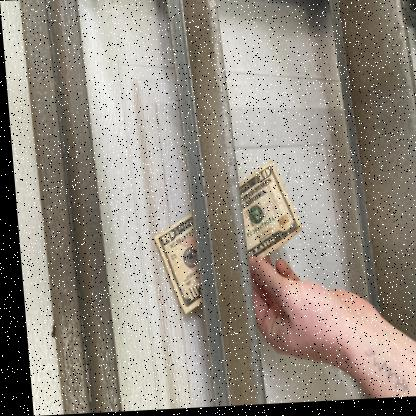ten-front: (150, 163, 299, 316)
